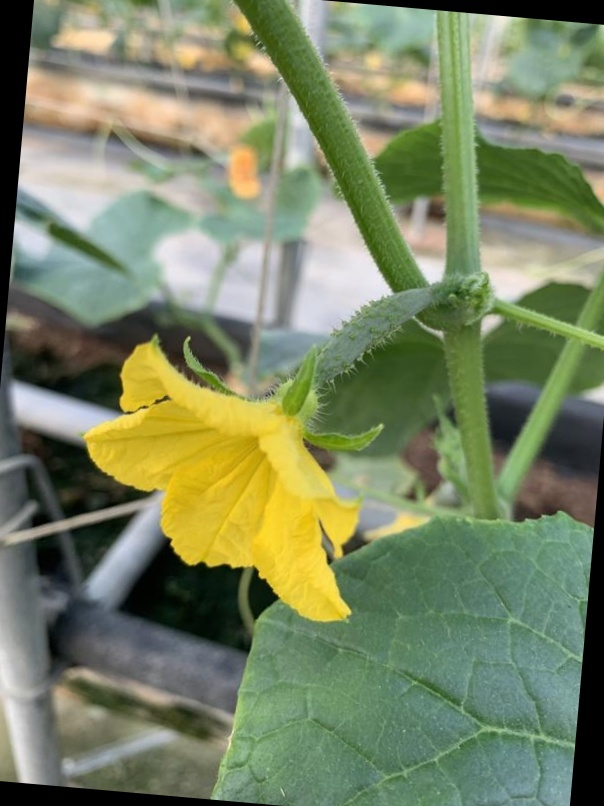flowering: (78, 252, 445, 600)
